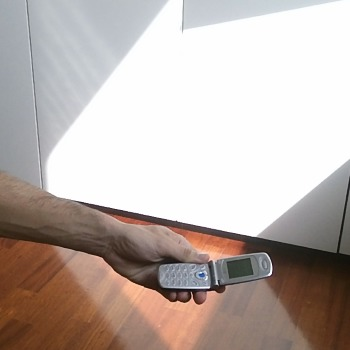hand: (2, 174, 210, 288)
